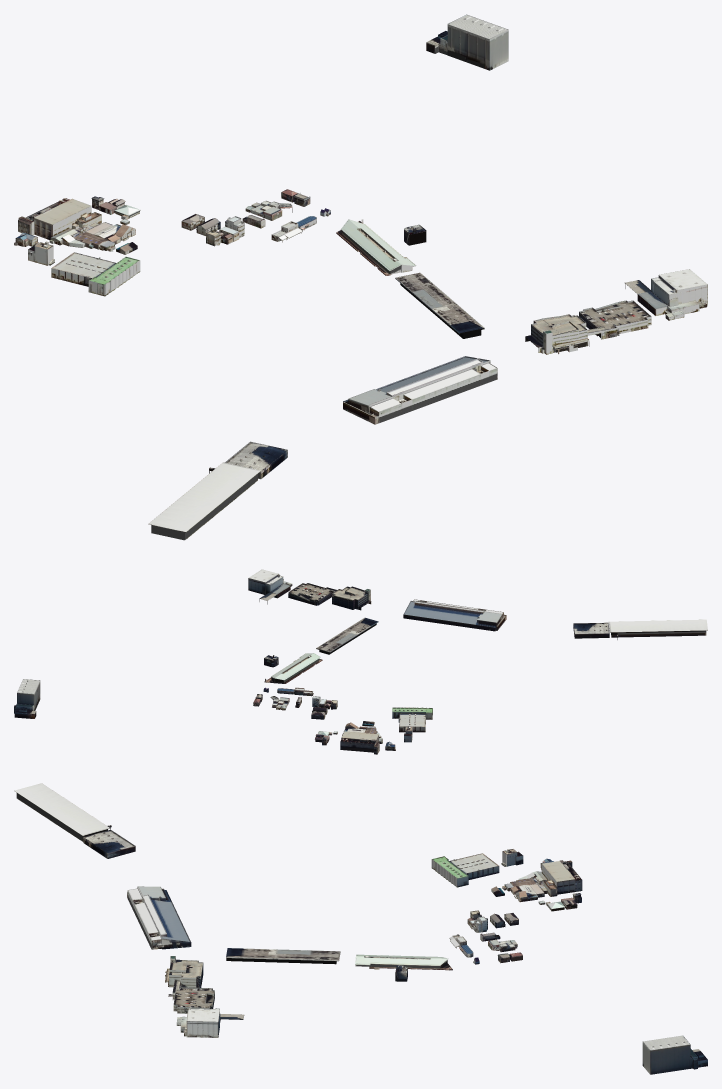
The model's file is port-bldg-hero-tex-packed.glb.
3 views of the same model, one above another, from view 1: azimuth 30°, elevation 25°; view 2: azimuth 150°, elevation 25°; view 3: azimuth 270°, elevation 25° (orthographic). The views are drawn at different scales.
Bounding box in the file's own units: 696 × 29.32 × 717.
16 materials, 15 textured.
